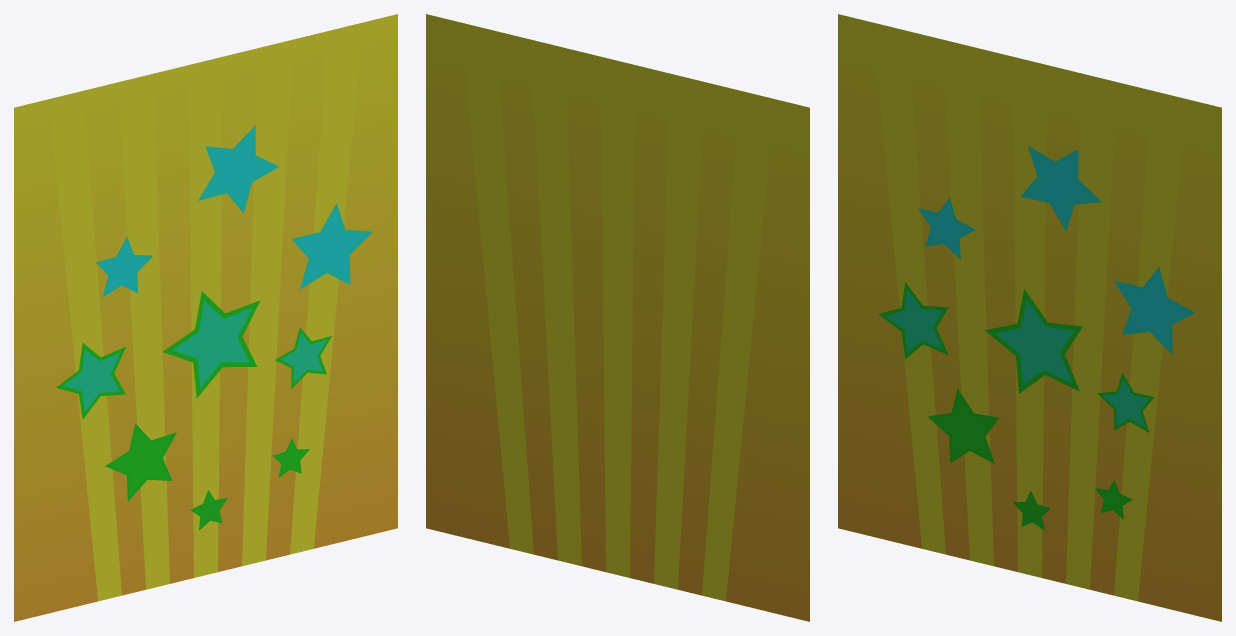
File: wall_stars.glb
3 renders of one model, left to right at view 1: azimuth 30°, elevation 25°; view 2: azimuth 150°, elevation 25°; view 3: azimuth 330°, elevation 25°, orthographic.
Visible parts, largest first — view 1: wall_stars; view 2: wall_stars; view 3: wall_stars.
Boxes of the visible parts, x1=… form: wall_stars: x1=14, y1=14, x2=397, y2=621; wall_stars: x1=426, y1=14, x2=809, y2=621; wall_stars: x1=838, y1=14, x2=1221, y2=621.
Size of the model in its own units: 12.14 by 15.53 by 0.0424.
